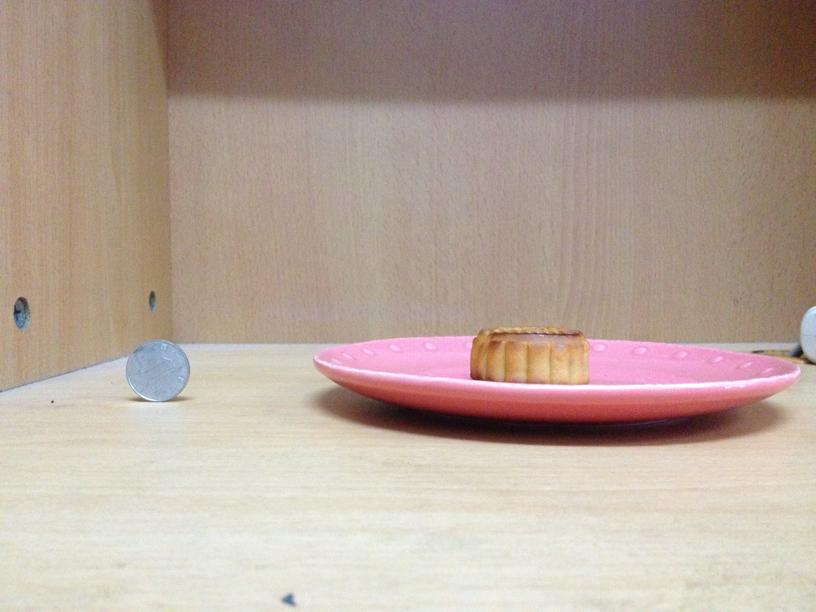coin: (122, 341, 188, 401)
mooncake: (468, 326, 592, 386)
